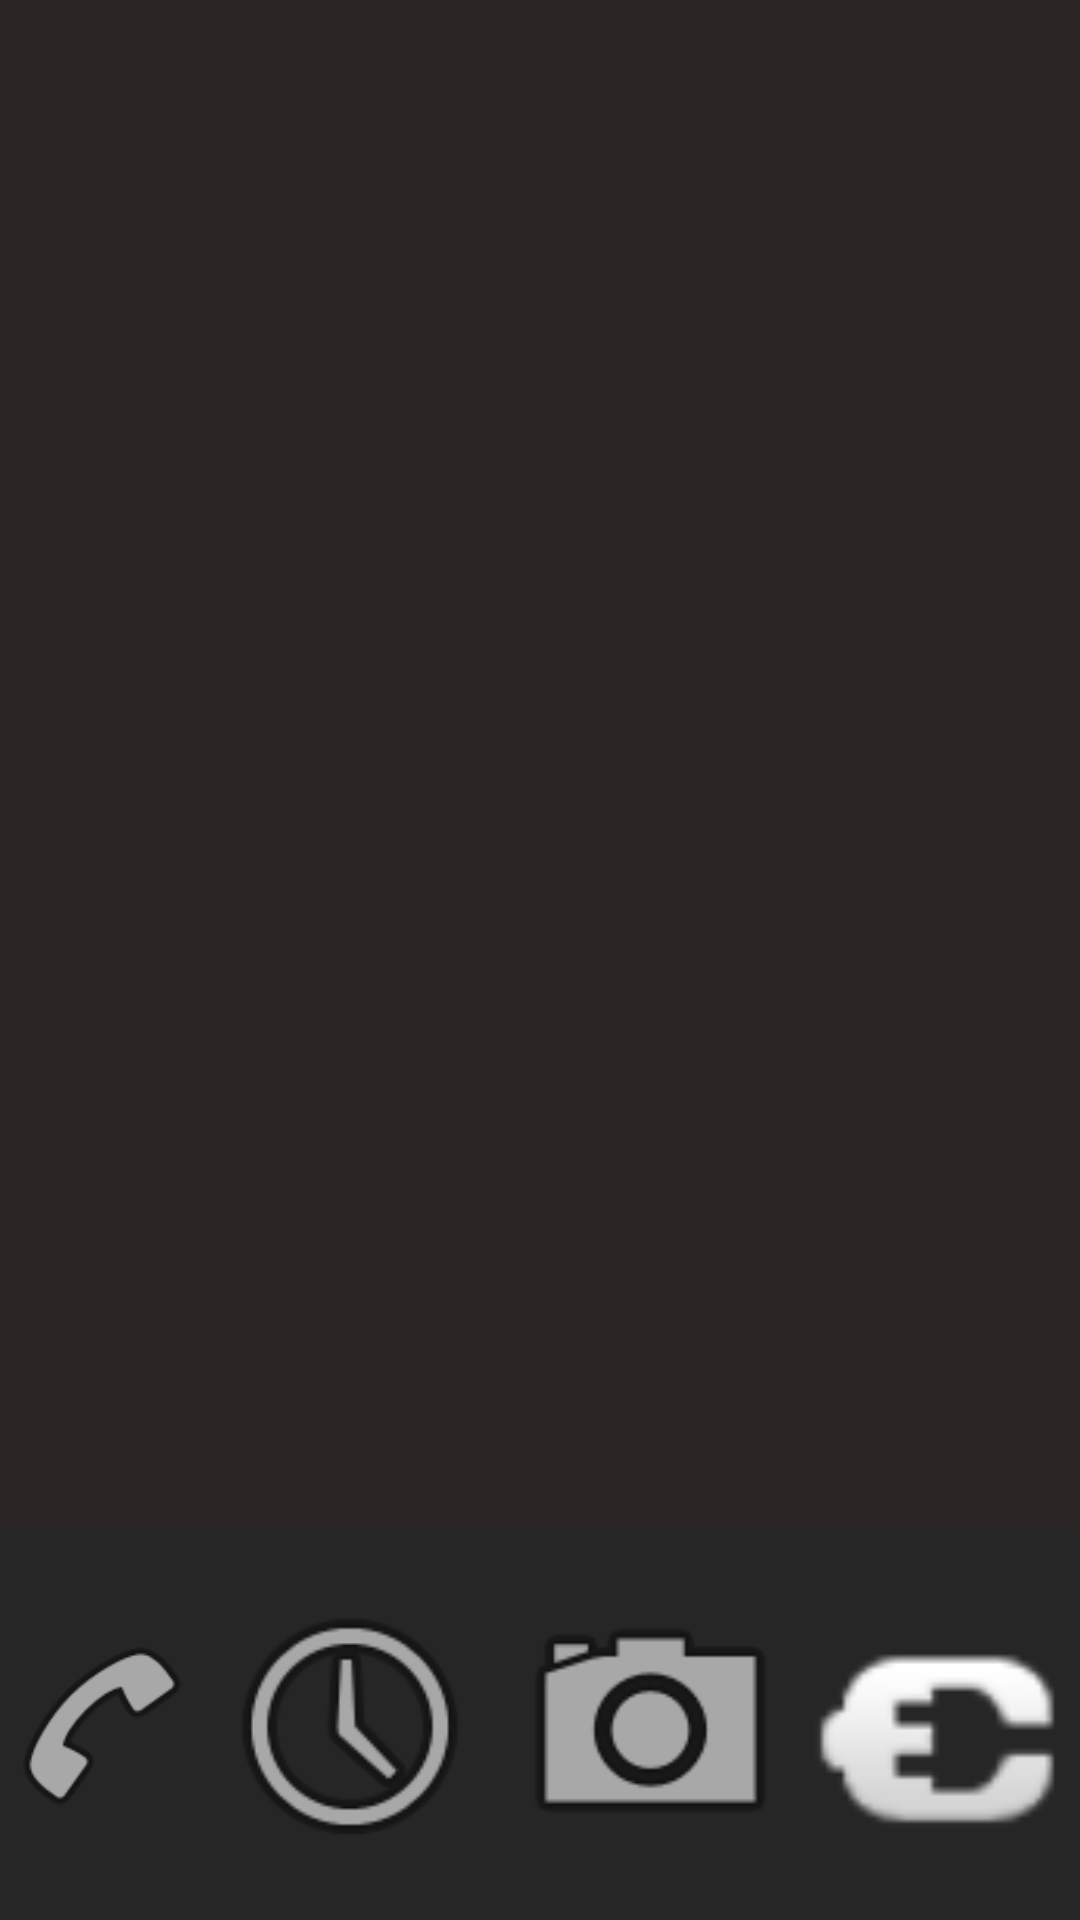

Where icons sit on this 1080×1920 app screen, as [left=x1, top=y1, right=x2, bottom=y2]:
call: [left=29, top=1653, right=175, bottom=1799]
camera: [left=544, top=1638, right=756, bottom=1803]
lock idle charging: [left=820, top=1655, right=1054, bottom=1823]
recent history: [left=251, top=1628, right=449, bottom=1825]
